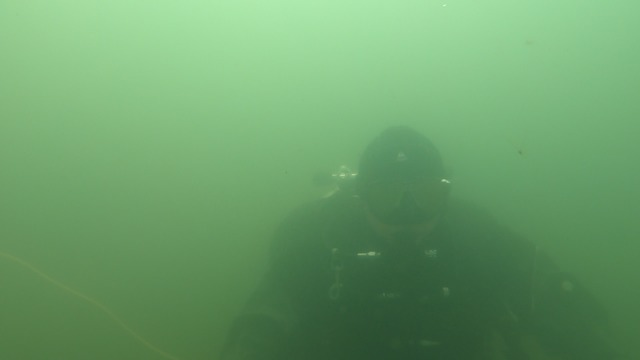Diver: (203, 118, 613, 349)
Head: (340, 124, 462, 261)
